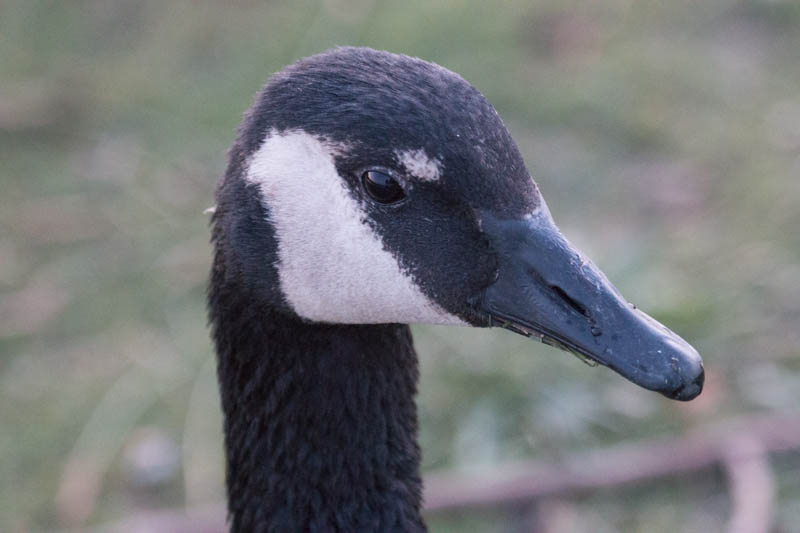goose-head: (207, 46, 706, 403)
